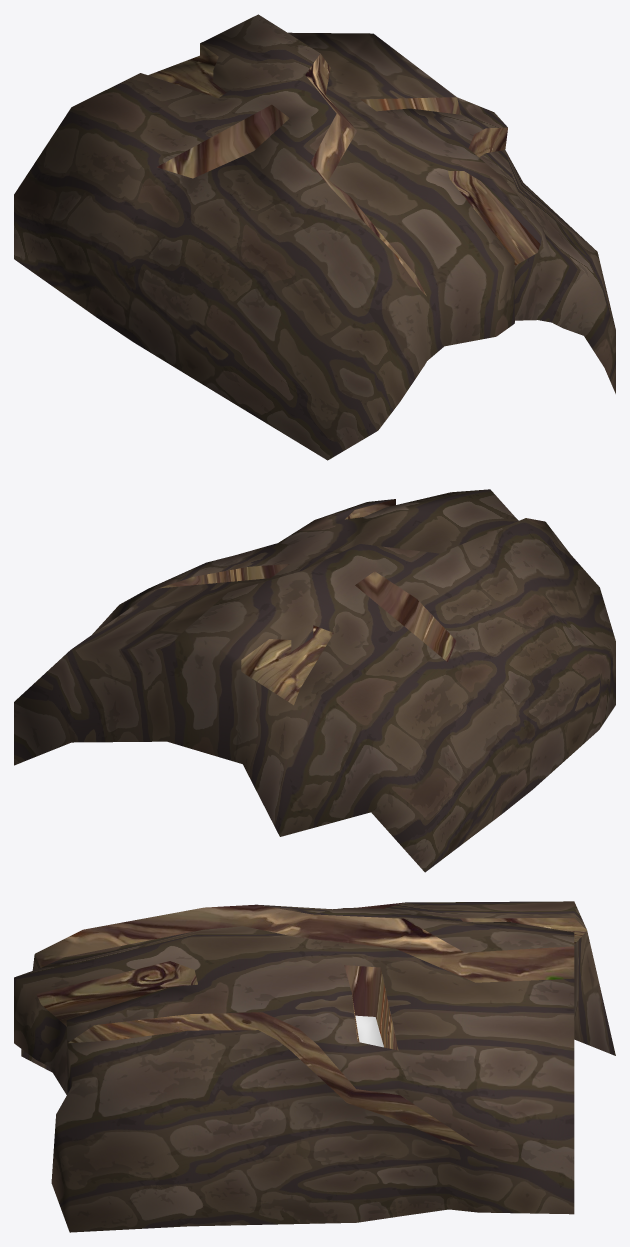
The model's file is Mask_01.fbx.
3 renders of one model, top to bottom at view 1: azimuth 30°, elevation 25°; view 2: azimuth 150°, elevation 25°; view 3: azimuth 270°, elevation 25°, orthographic. The views are drawn at different scales.
Parts seen in each view (by area): view 1: Mask_01; view 2: Mask_01; view 3: Mask_01.
Part boxes in pixels (x1,y1,x2,y2): Mask_01: [14, 14, 615, 460]; Mask_01: [14, 489, 615, 872]; Mask_01: [14, 901, 615, 1232].
Size of the model in its own units: 1999 by 1080 by 2450.
